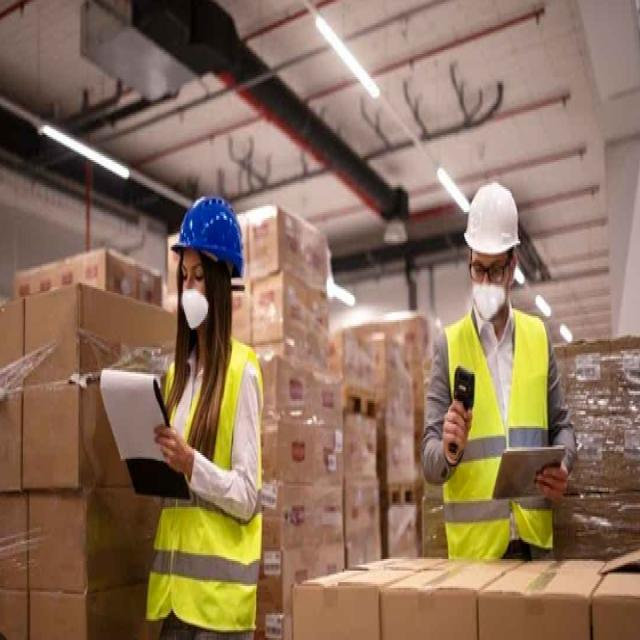hard_hat: (170, 198, 246, 337), (460, 179, 522, 315)
vest: (143, 333, 264, 633), (440, 306, 559, 560)
